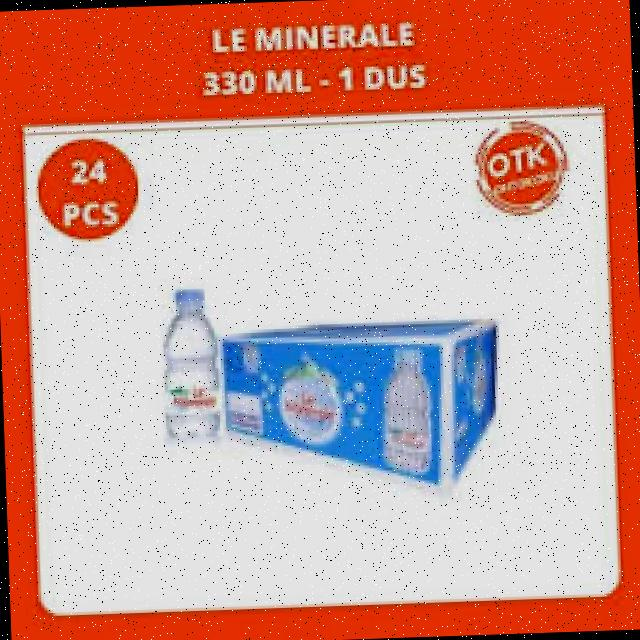bottle: (154, 272, 240, 443)
